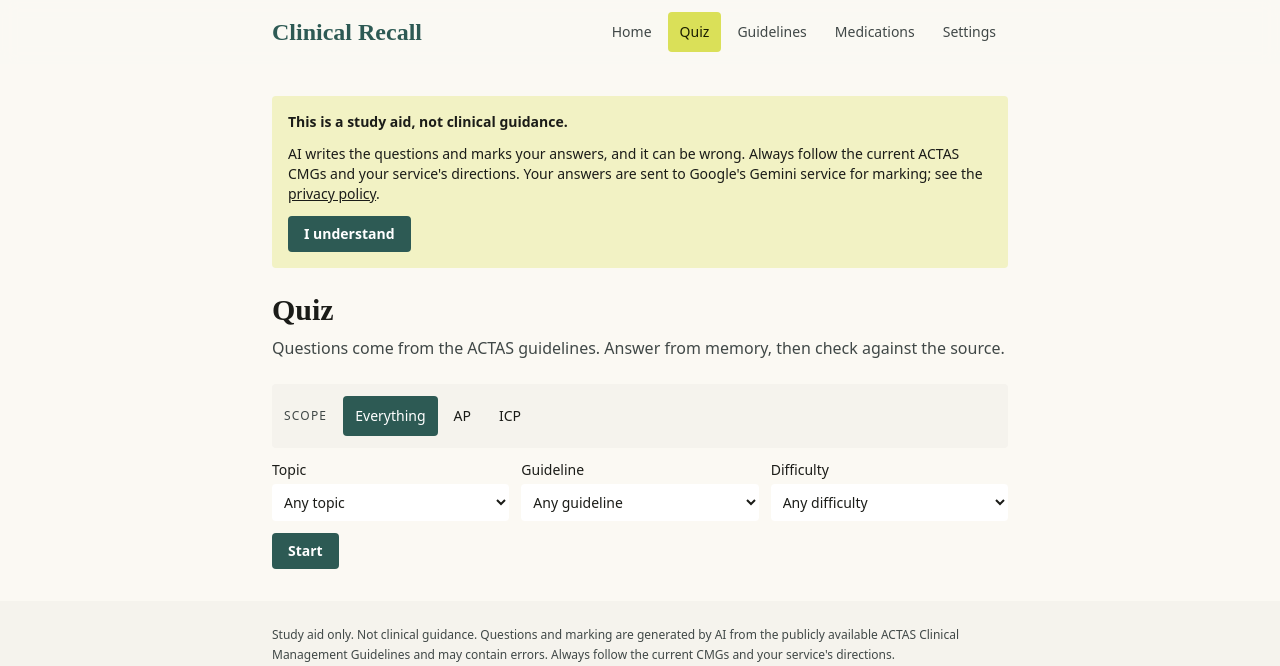
Test case: self-marking › saves a signed-in user's self-mark to the account
Click the button "Start": (305, 551) top-left (272, 533), bottom-right (339, 569)
(page scrolled)
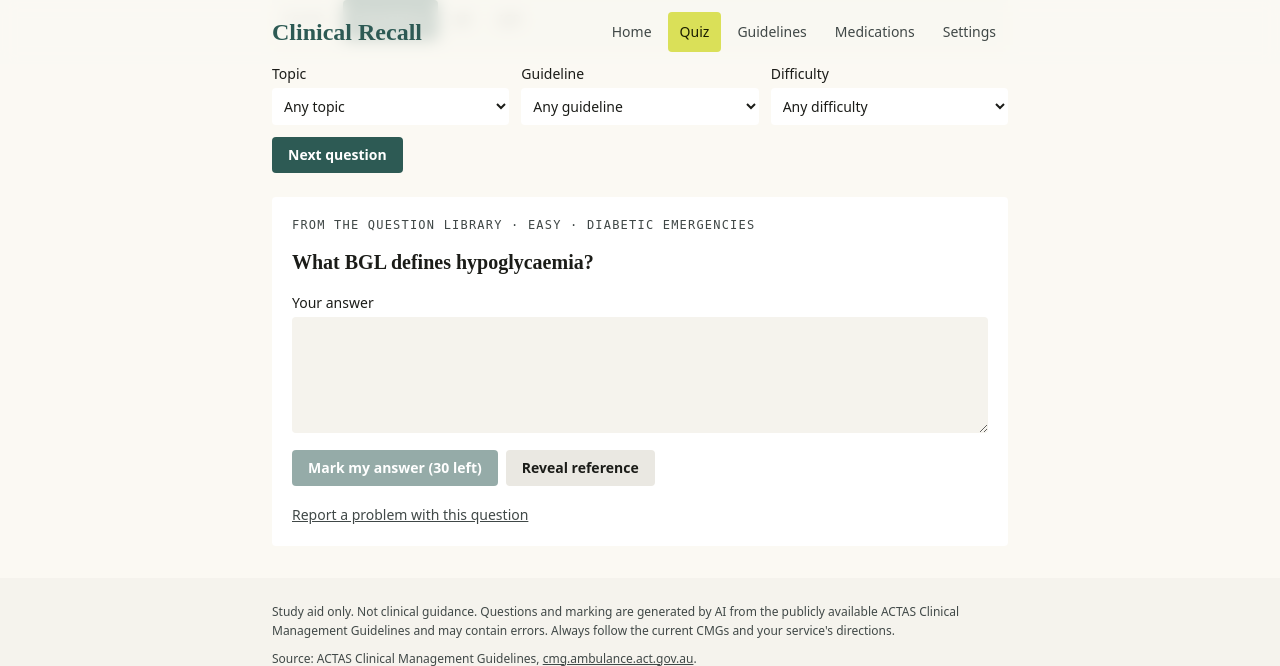
Click the button "Reveal reference": (580, 468) top-left (506, 450), bottom-right (655, 486)
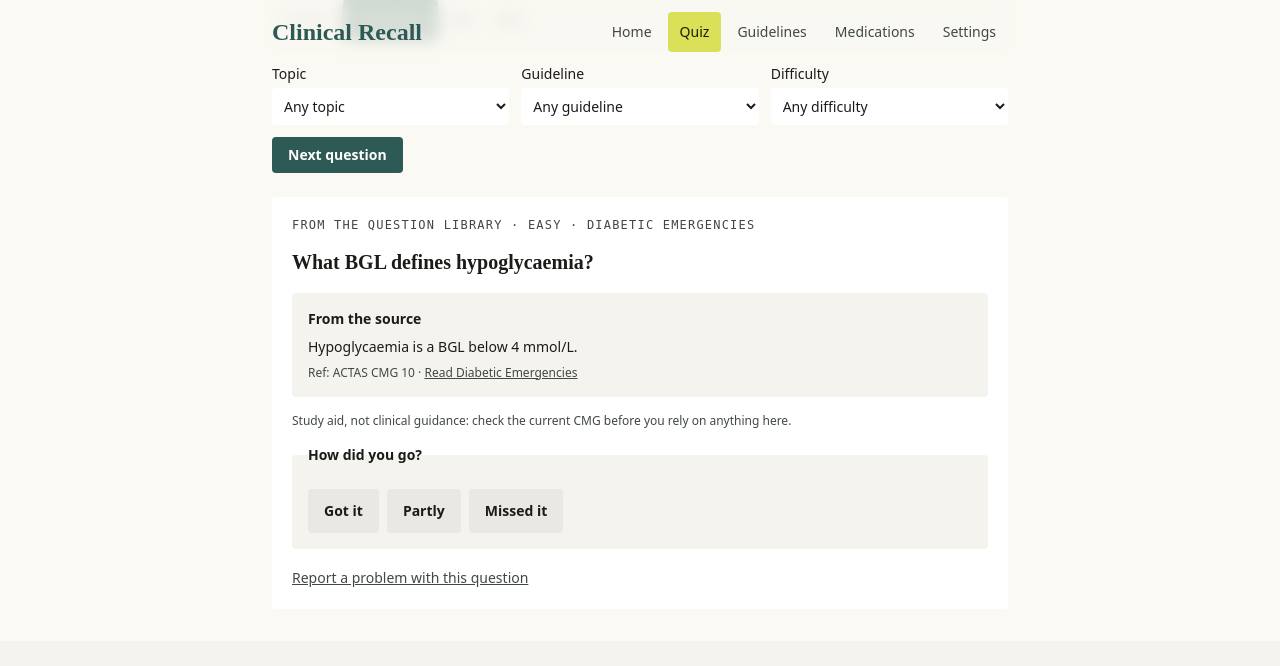
Click the button "Got it": (343, 510) top-left (308, 488), bottom-right (379, 532)
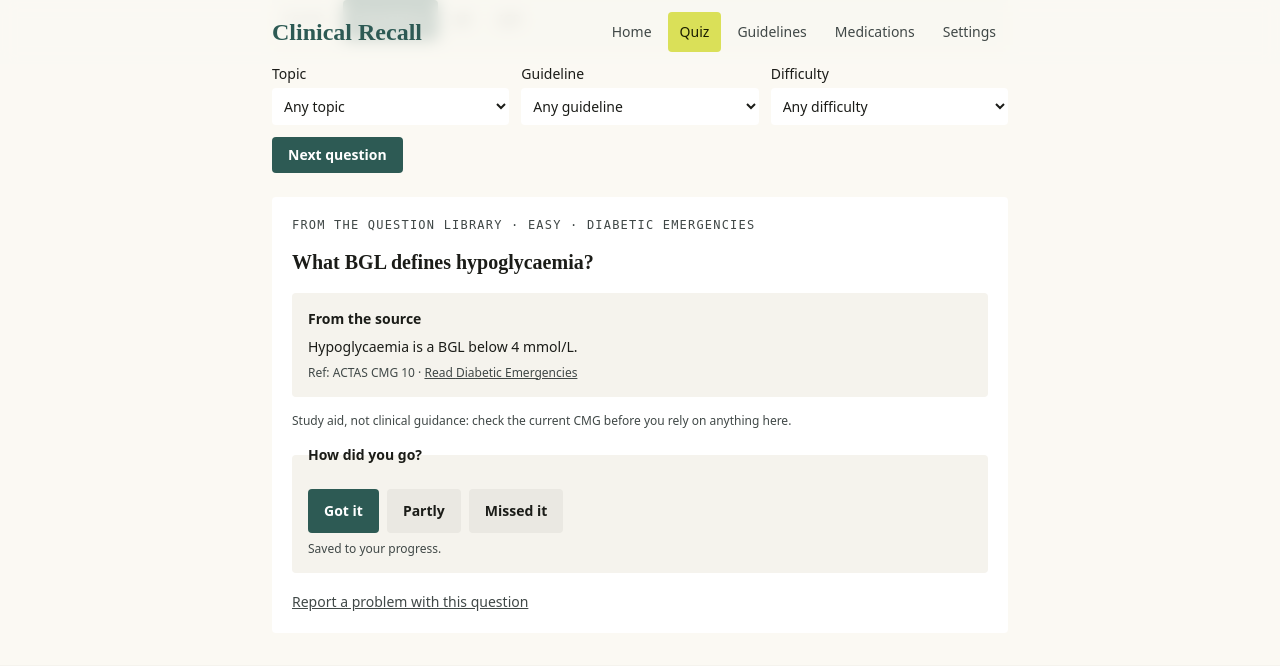
Expected: the text "Saved to your progress." is shown, top-left (308, 540), bottom-right (441, 556)
